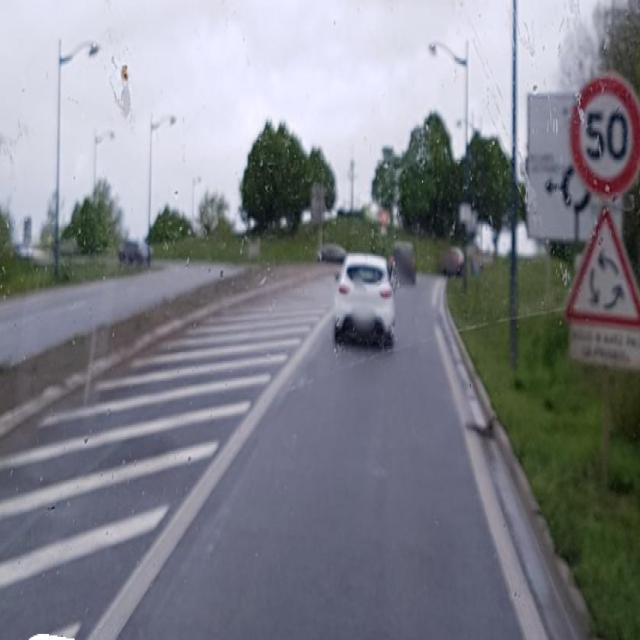speed_50: (570, 77, 640, 199)
